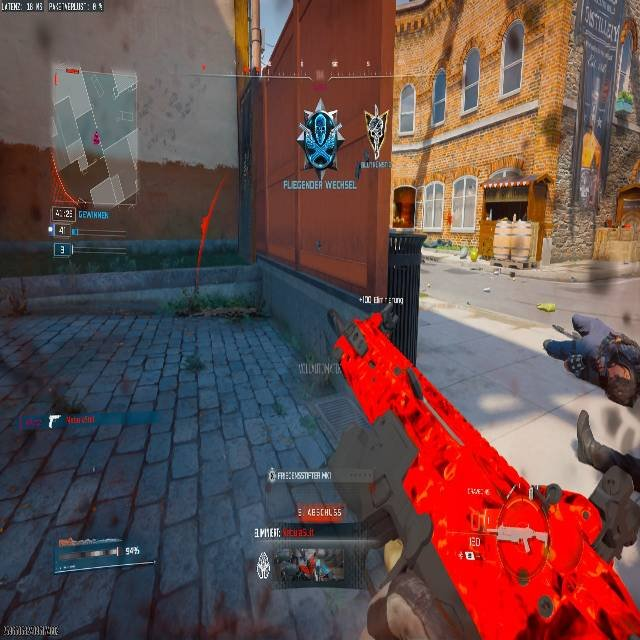player: (543, 312, 640, 592), (298, 105, 344, 175), (364, 108, 387, 159)
